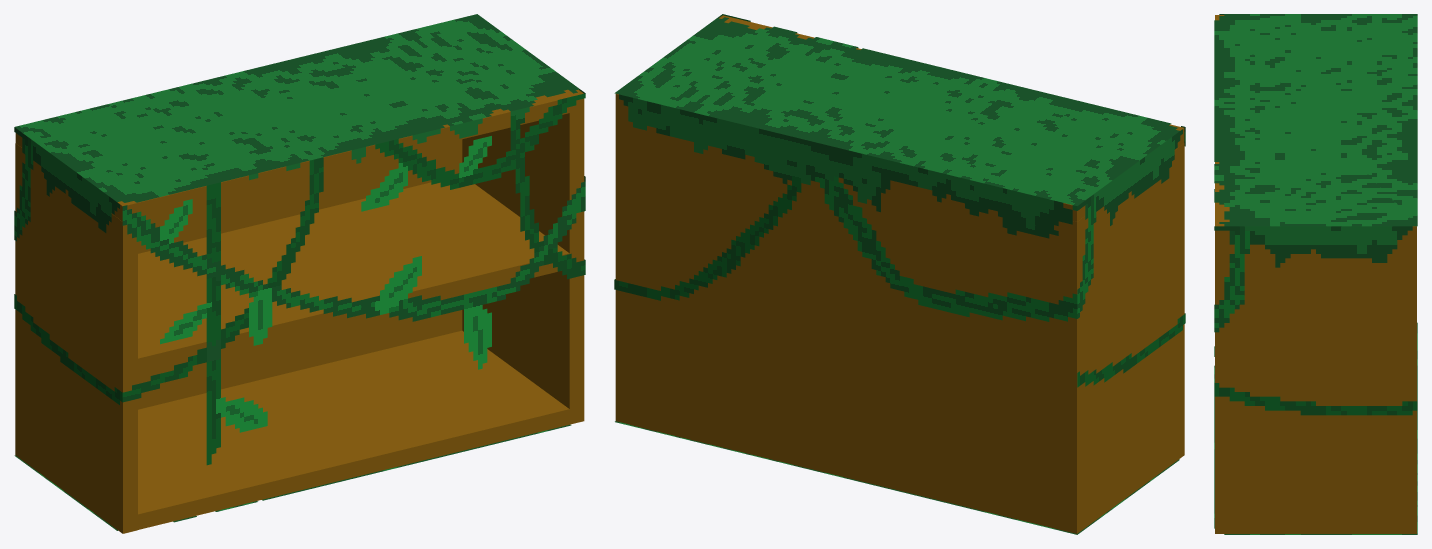
The model's file is Bookshelf5.gltf.
3 renders of one model, left to right at view 1: azimuth 30°, elevation 25°; view 2: azimuth 150°, elevation 25°; view 3: azimuth 270°, elevation 25°, orthographic. The views are drawn at different scales.
Parts seen in each view (by area): view 1: cube (×7); view 2: cube (×4); view 3: cube (×3).
Part boxes in pixels (box(x1,y1,x2,y2)): cube (×7): box(14, 14, 585, 533); cube (×4): box(614, 14, 1185, 534); cube (×3): box(1214, 14, 1417, 534).
Size of the model in its own units: 0.3888 by 0.2638 by 0.1575.
7 materials, 7 textured.
